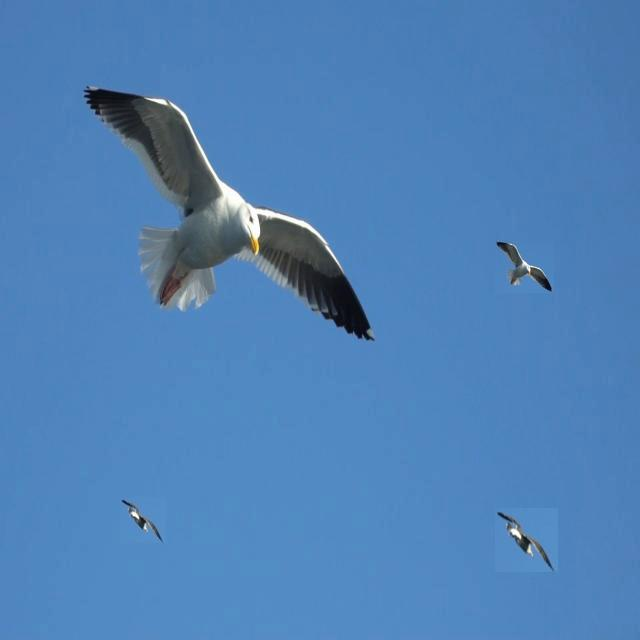bird: (75, 76, 378, 349), (498, 512, 556, 570), (496, 243, 553, 292), (122, 500, 164, 542)
